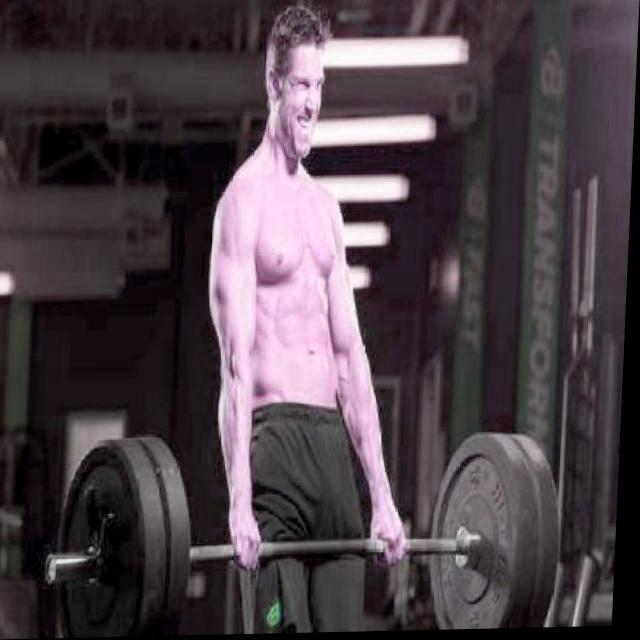barbell: (48, 432, 161, 640)
